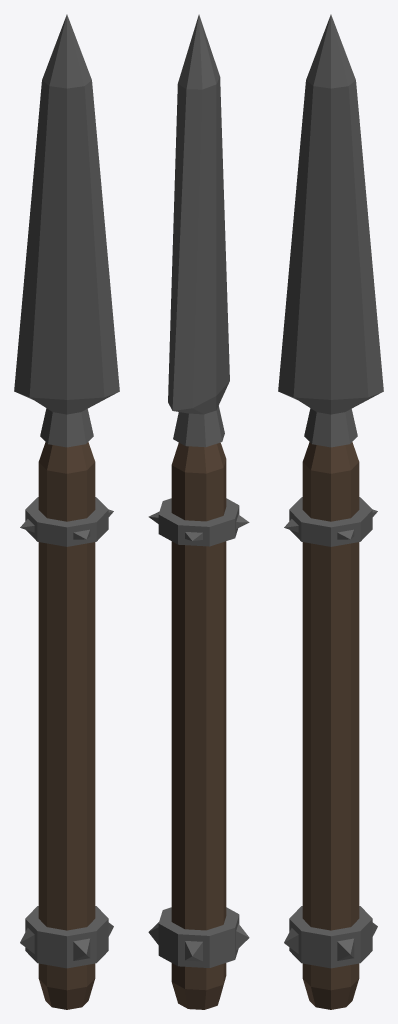
File: Spear.fbx
3 renders of one model, left to right at view 1: azimuth 90°, elevation 25°; view 2: azimuth 150°, elevation 25°; view 3: azimuth 270°, elevation 25°, orthographic.
Visible parts, largest first — view 1: Circle; view 2: Circle; view 3: Circle.
Boxes of the visible parts, x1,y1,x2,y2 form: Circle: (14, 14, 119, 1009); Circle: (148, 14, 249, 1009); Circle: (278, 14, 383, 1009).
Size of the model in its own units: 377 by 4353 by 423.
